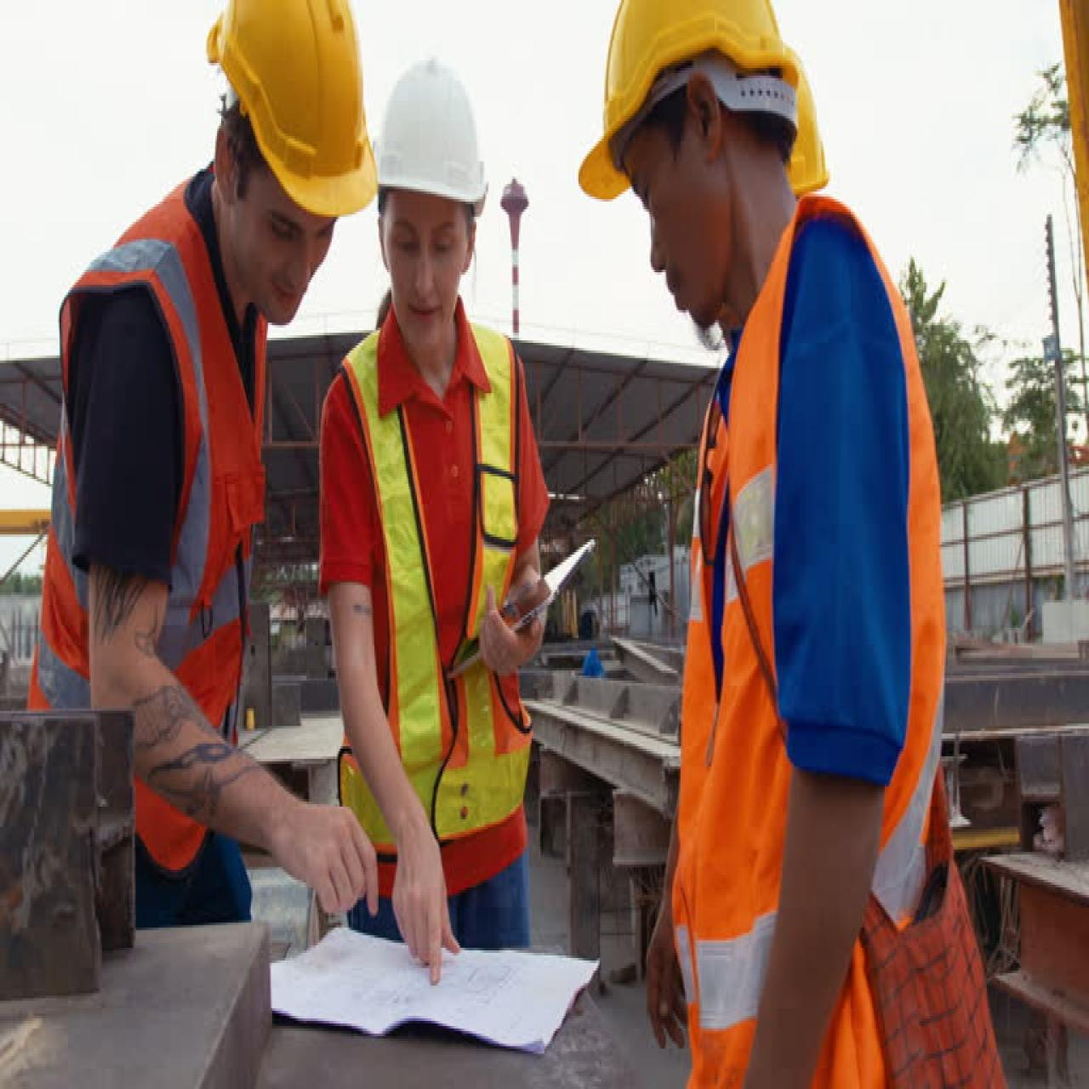Person: (552, 0, 982, 1089), (4, 0, 378, 976), (304, 37, 569, 974)
Safety_Vest: (655, 190, 952, 1089), (25, 174, 272, 886), (330, 327, 535, 876)
